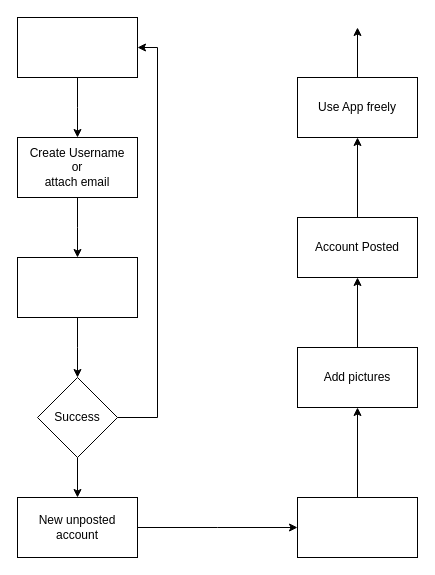
This 435x575 diagram has some shape labels left out. Each missing label, with the box of its shape:
Create Password: (16, 256, 138, 318)
Set interest and hobbies: (296, 496, 418, 558)
User presses signup button: (16, 16, 138, 78)
